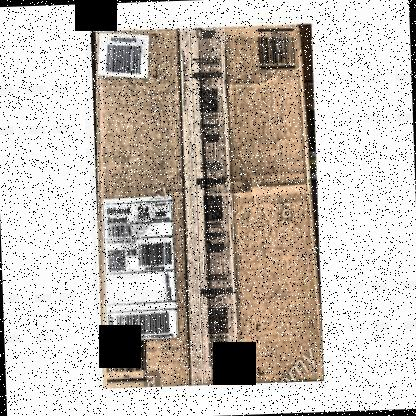no defect parcel: (81, 13, 337, 399)
